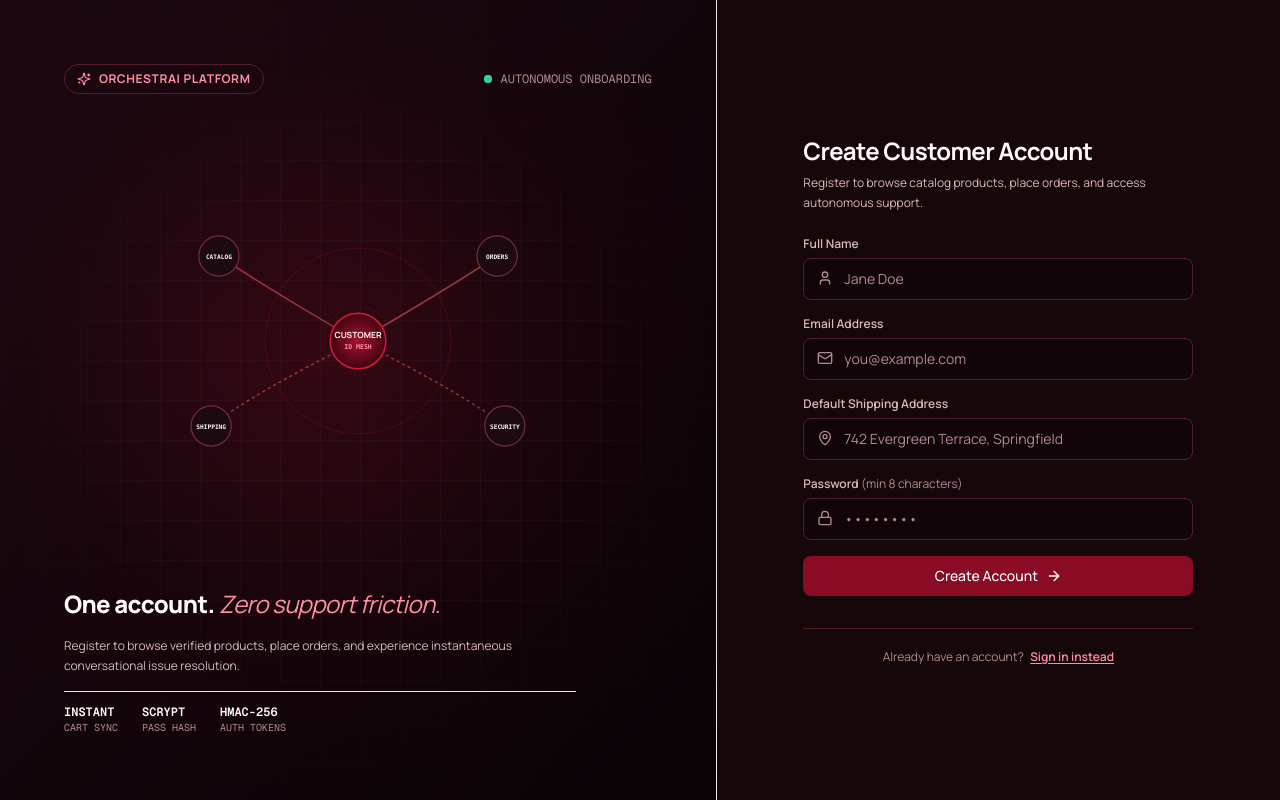
RegisterPage › displays client-side validation error if password is less than 8 characters
Type "Sarah" into the field with test id "register-name-input" at (998,279), box [803,258,1193,300]
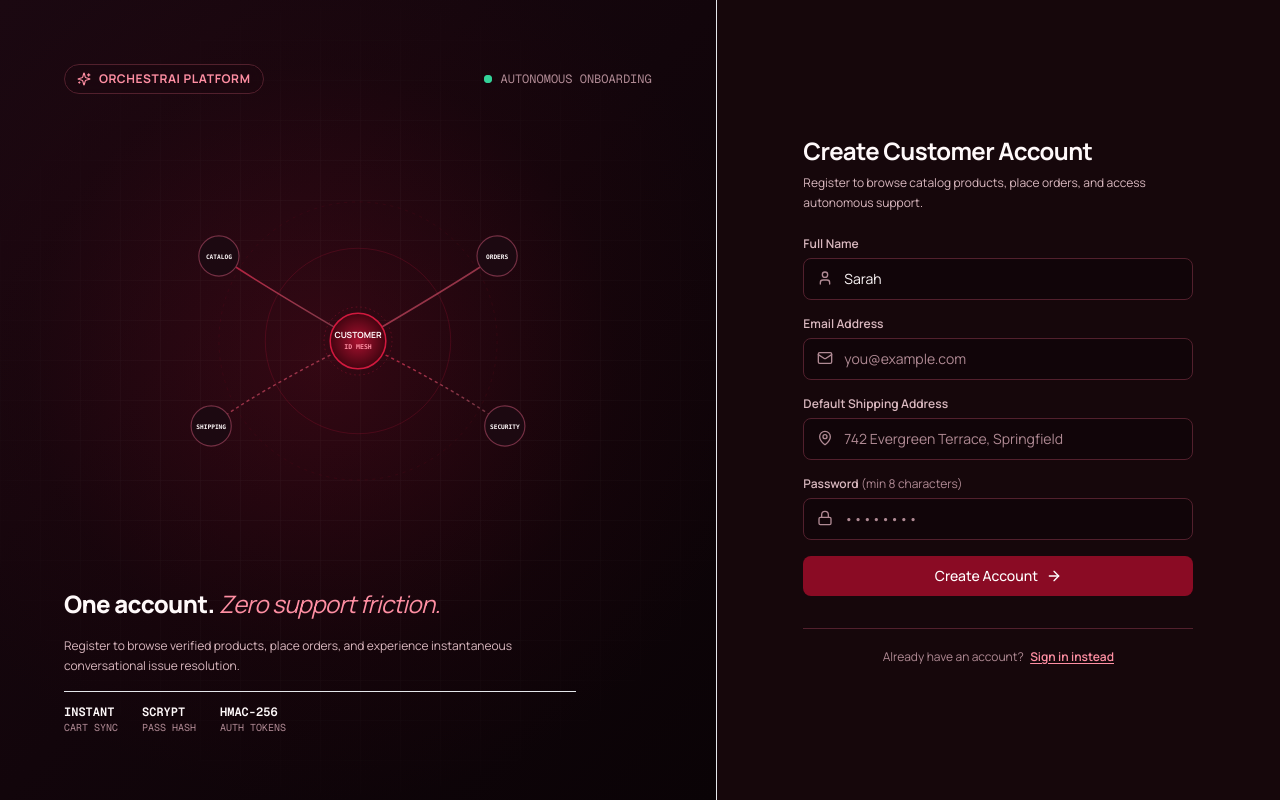
Type "sarah@example.com" into the field with test id "register-email-input" at (998,359), box [803,338,1193,380]
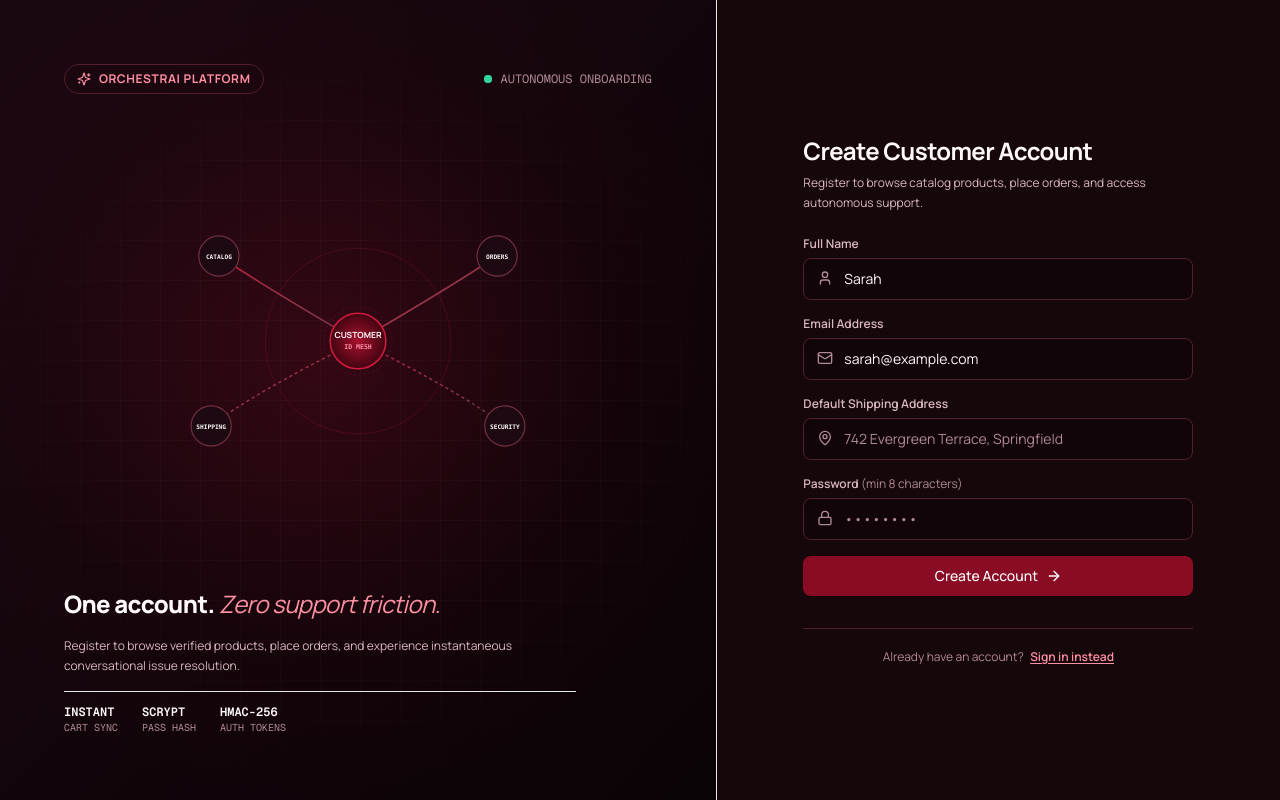
Type "Address" into the field with test id "register-address-input" at (998,439), box [803,418,1193,460]
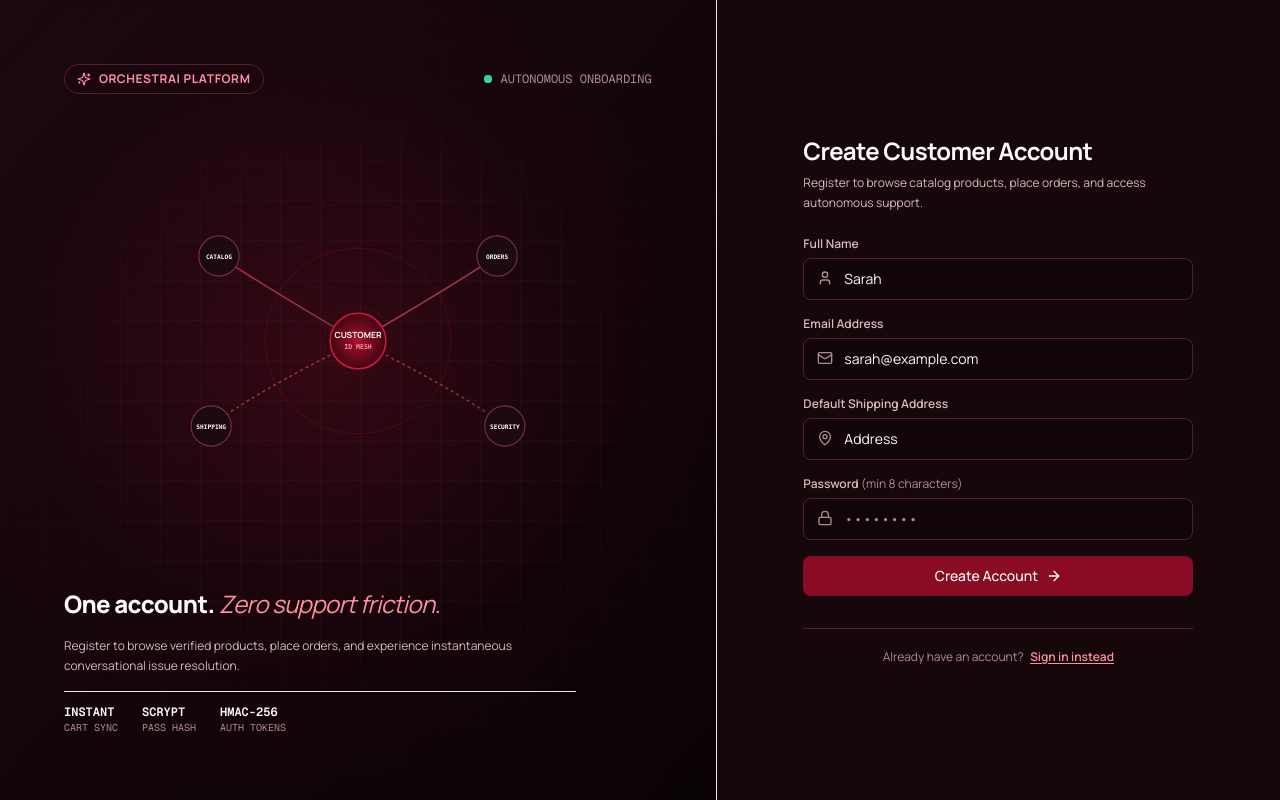
Type "short" into the password field with test id "register-password-input" at (998,519), box [803,498,1193,540]
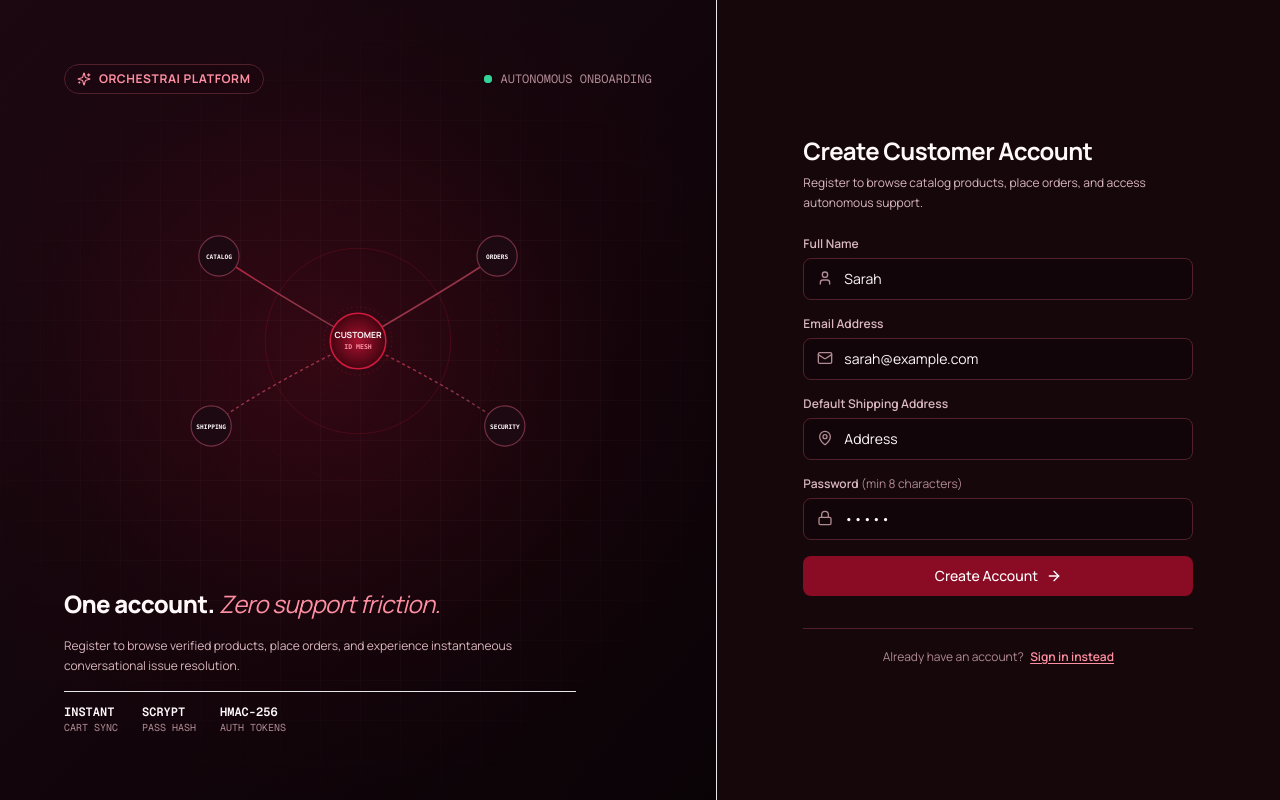
Click the button with test id "register-submit-btn" at (998,576), box [803,556,1193,596]
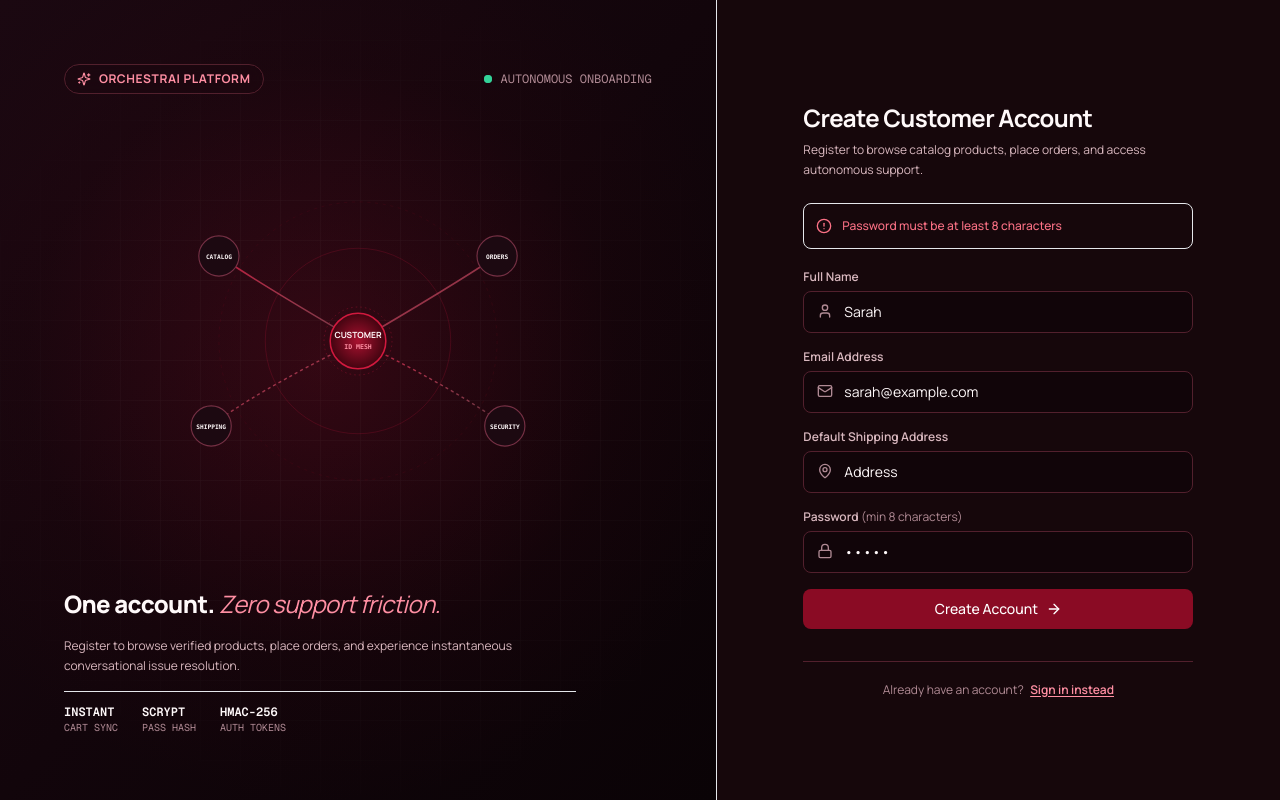
Check: the message with test id "register-error-banner" reads "Password must be at least 8 characters", box [842,217,1062,234]
